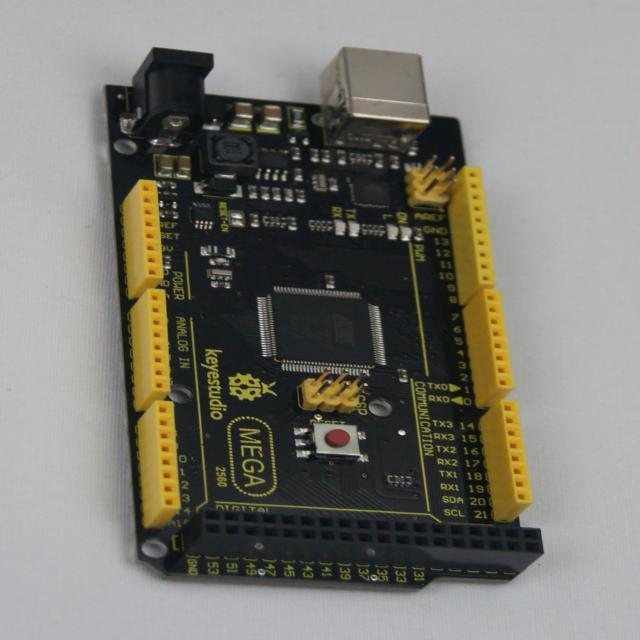Arduino Mega 2560 -Yellow-: (106, 48, 543, 588)
